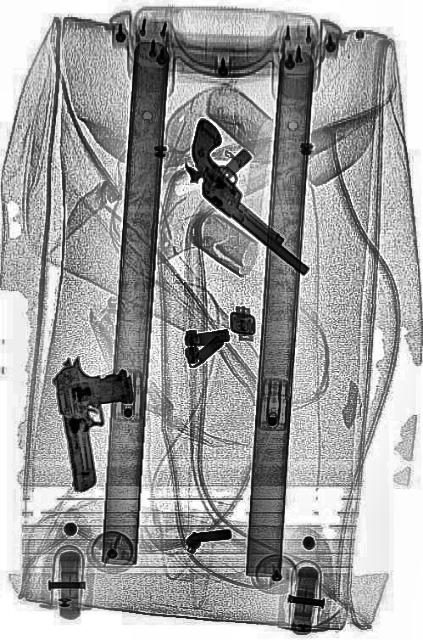Gun: (176, 113, 328, 279), (51, 341, 145, 495)
